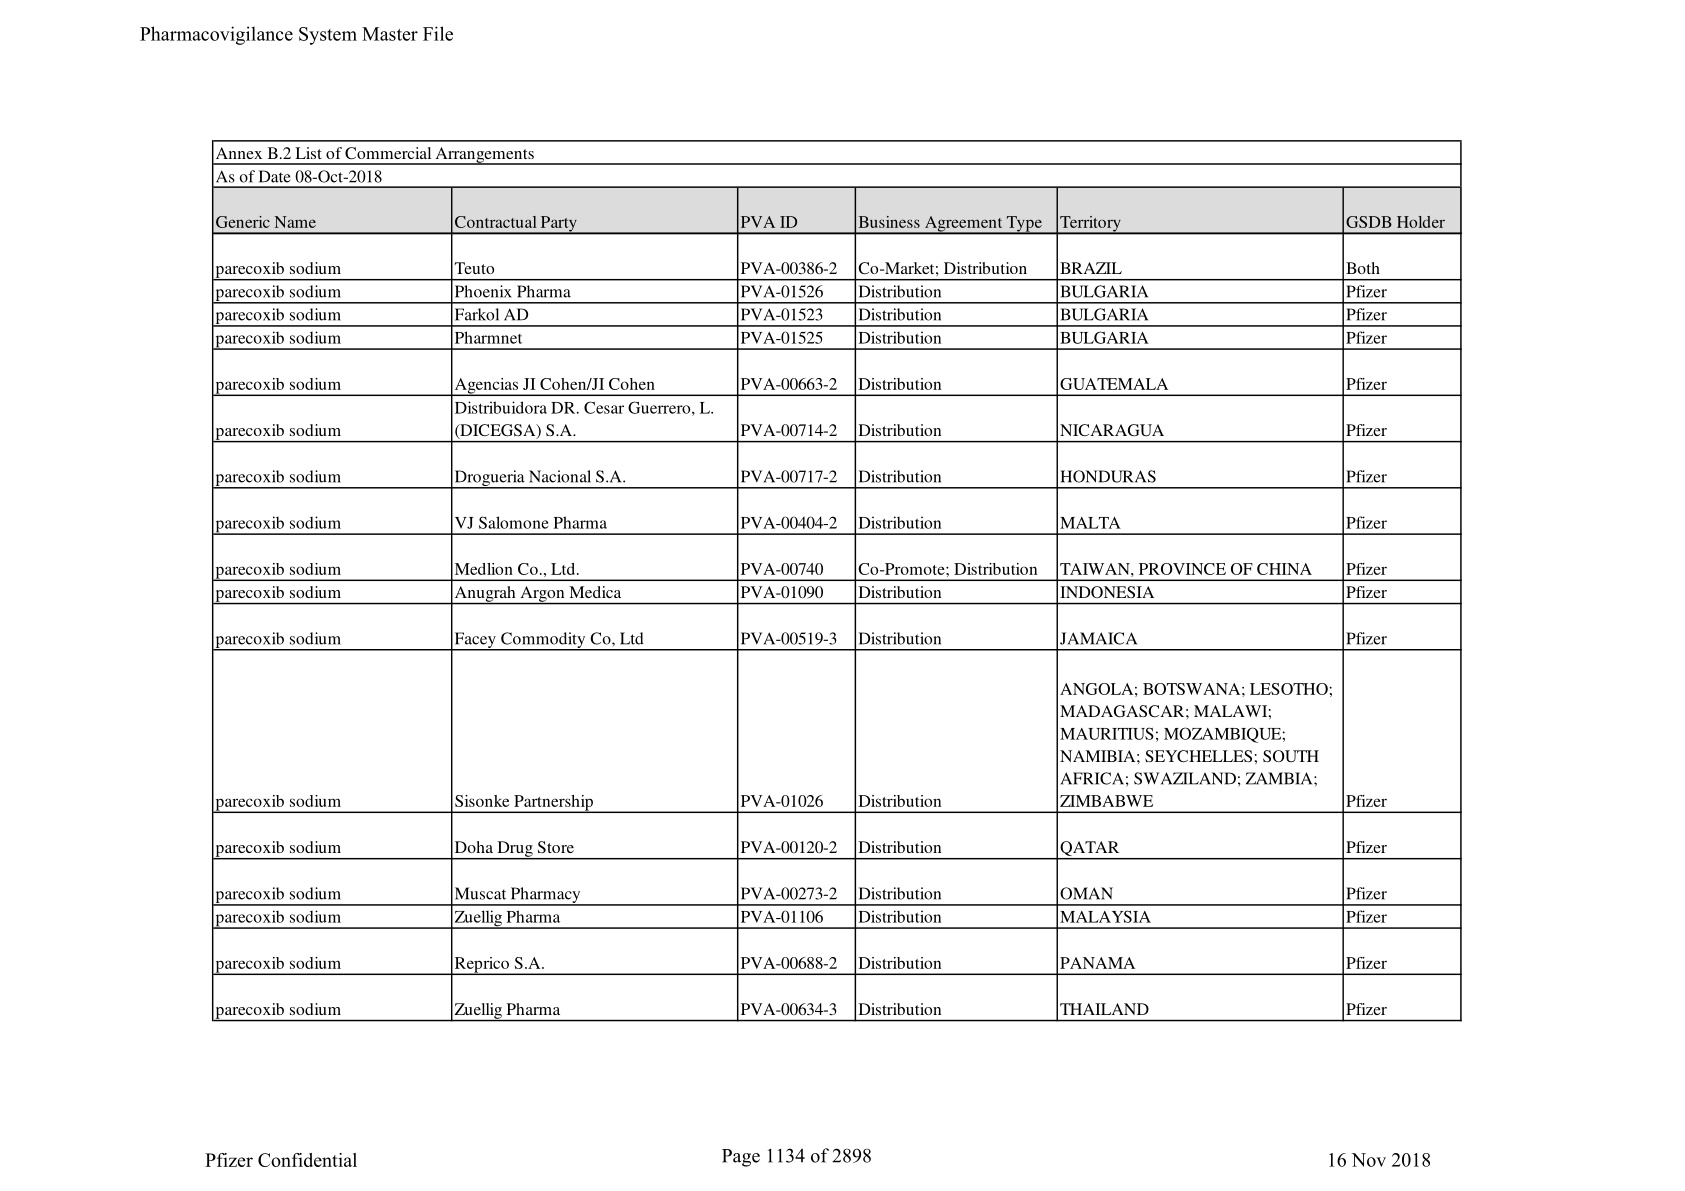merged_cells: (211, 139, 1463, 1023)
